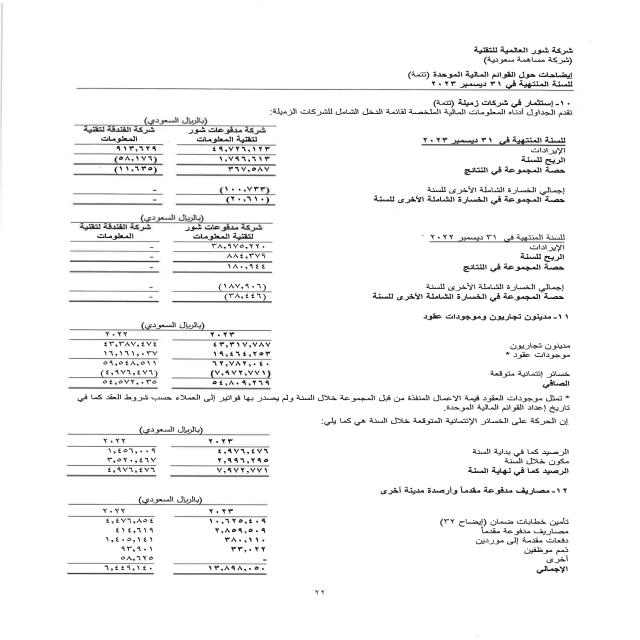notes: (393, 70, 581, 78)
table: (44, 489, 282, 580), (59, 116, 274, 207), (60, 214, 274, 305), (59, 317, 274, 396), (54, 419, 278, 480)
